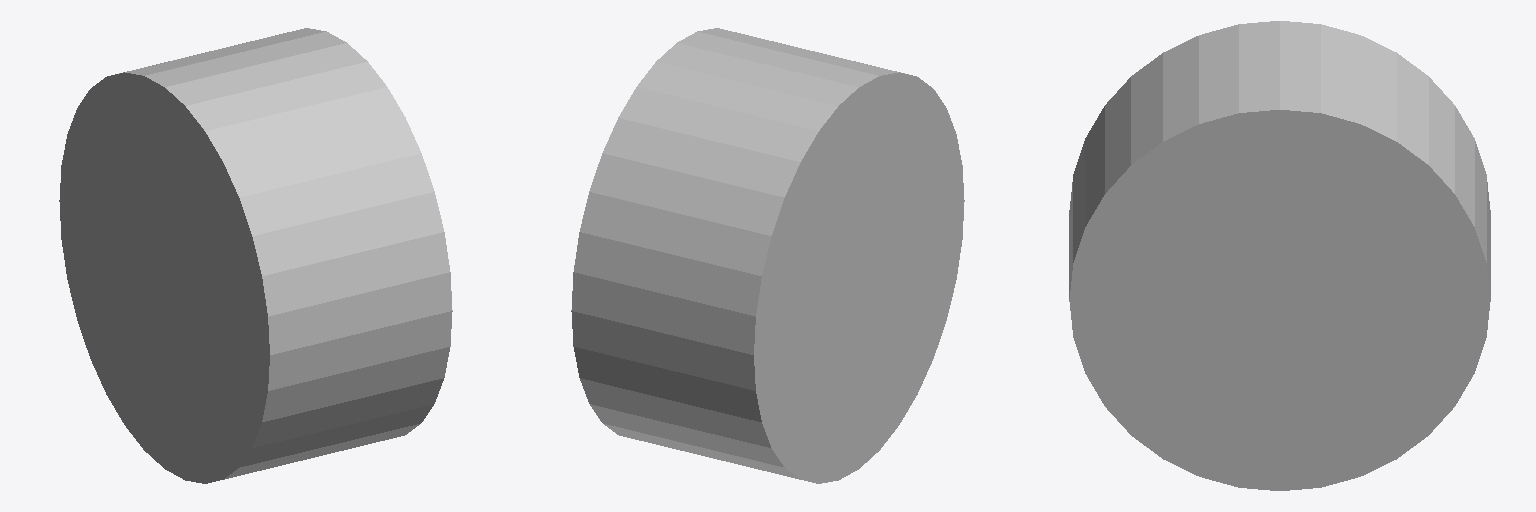
The model's file is roda.obj.
3 views of the same model, side by side, from view 1: azimuth 30°, elevation 25°; view 2: azimuth 150°, elevation 25°; view 3: azimuth 270°, elevation 25° (orthographic).
Parts seen in each view (by area): view 1: Cylinder; view 2: Cylinder; view 3: Cylinder.
Boxes of the visible parts, x1,y1,x2,y2 form: Cylinder: [59, 28, 452, 483]; Cylinder: [571, 28, 964, 483]; Cylinder: [1069, 21, 1490, 490].
Bounding box in the file's own units: 0.6 × 1.2 × 1.2.